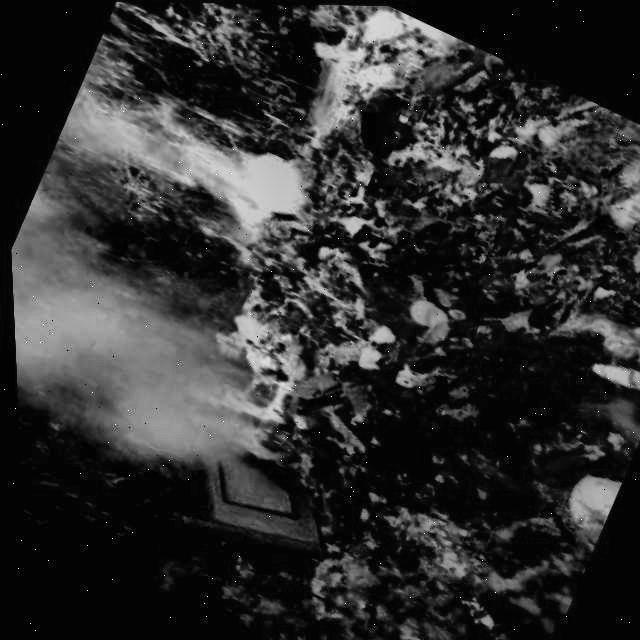Fire: (166, 195, 386, 339), (182, 369, 290, 442)
Smoke: (7, 193, 299, 491), (57, 31, 339, 241)
